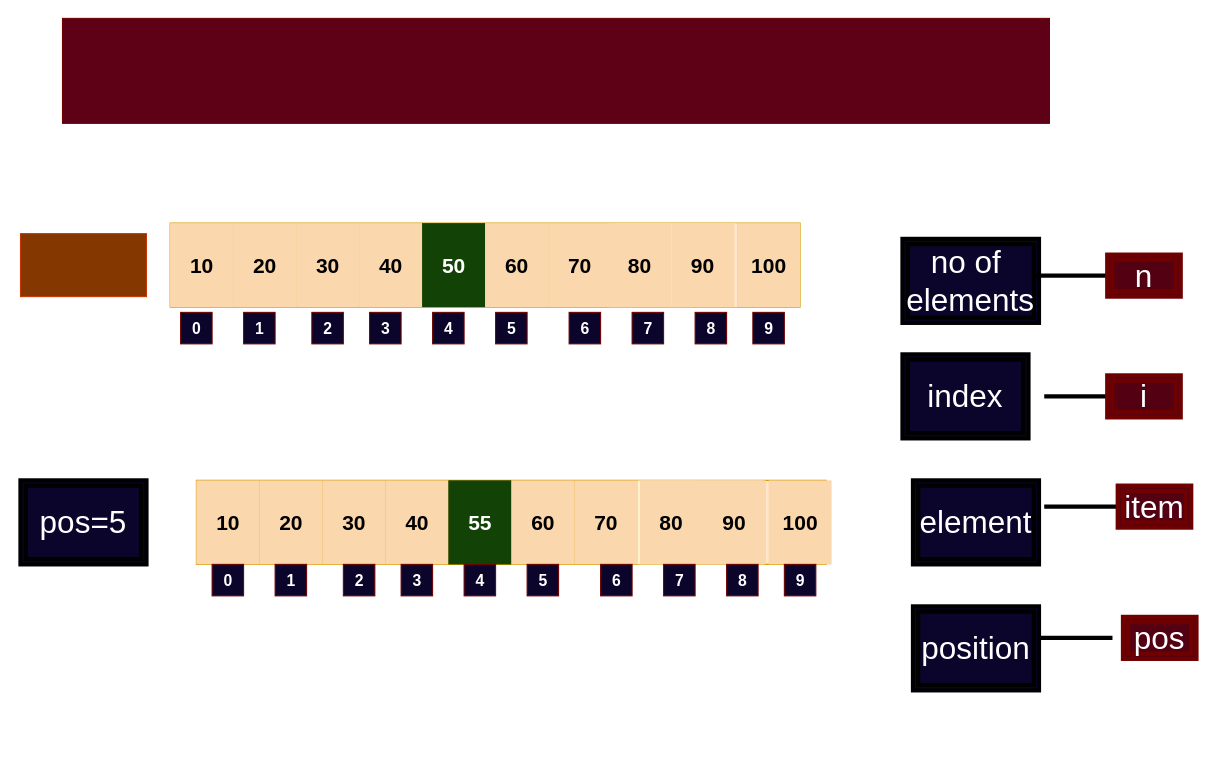
This 1216x763 diagram has some shape labels left out. Here are the shapes that lost their labels. From the top down, the centre of each, then its label:
the point at 555,70: Data Structure and Algorithm | Array Updation
the point at 82,265: arr[10]
